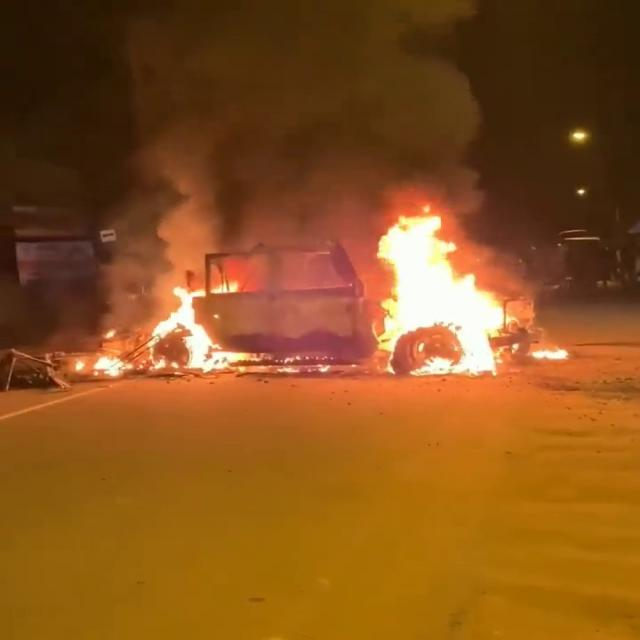Fire: (377, 217, 508, 376), (145, 289, 230, 365), (54, 353, 151, 382), (410, 359, 478, 380), (525, 348, 570, 363)
Smoke: (145, 95, 465, 232), (99, 234, 174, 346), (160, 213, 249, 293)
